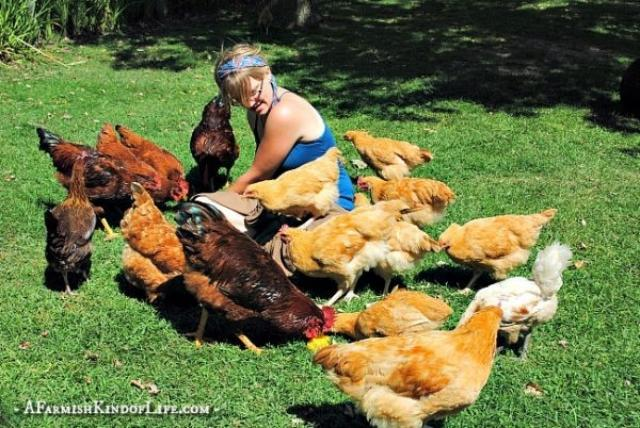Chicken: (173, 200, 336, 345), (312, 305, 504, 428), (455, 241, 574, 331), (39, 125, 164, 208), (438, 206, 557, 286), (122, 181, 187, 302), (43, 150, 98, 292), (95, 123, 188, 203), (323, 286, 453, 340), (116, 125, 188, 206), (355, 172, 455, 227), (190, 93, 240, 190), (343, 127, 434, 180)
